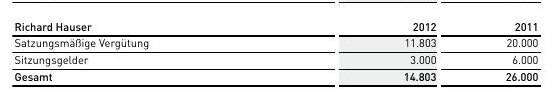table: (0, 0, 553, 99)
